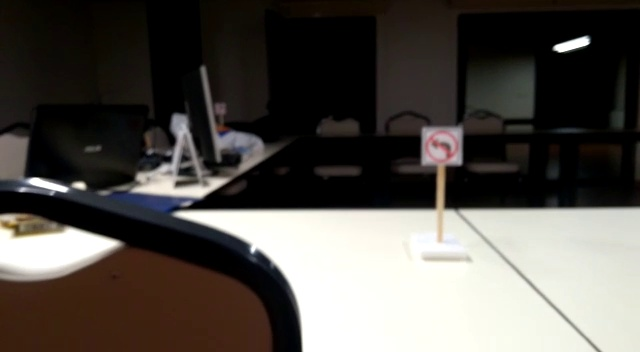sola_donulmez: (427, 135, 458, 162)
